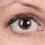eye: (19, 19, 31, 30)
